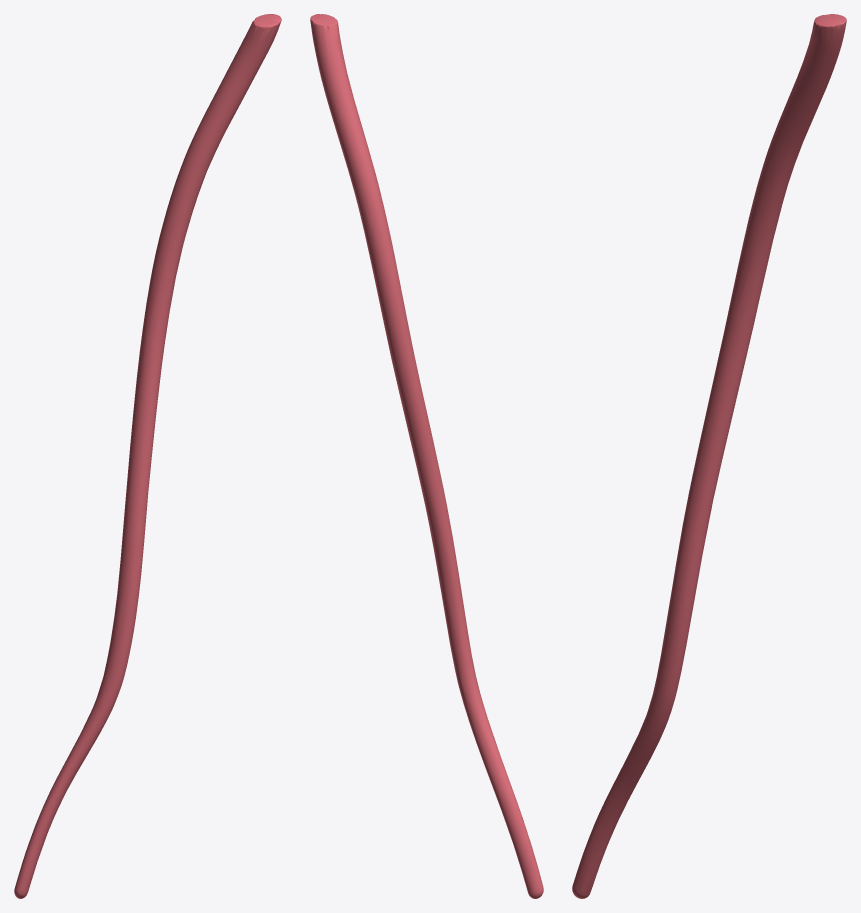
File: fma22935_fj2341.glb
The picture shows the model from 3 angles, left to right: view 1: azimuth 30°, elevation 25°; view 2: azimuth 150°, elevation 25°; view 3: azimuth 330°, elevation 25°; orthographic projection. The views are drawn at different scales.
Parts seen in each view (by area): view 1: FMA22935_FJ2341; view 2: FMA22935_FJ2341; view 3: FMA22935_FJ2341.
Boxes of the visible parts, bbox=[...] form: FMA22935_FJ2341: bbox=[14, 14, 281, 898]; FMA22935_FJ2341: bbox=[310, 14, 543, 898]; FMA22935_FJ2341: bbox=[572, 14, 846, 898].
Size of the model in its own units: 0.0682 by 0.2166 by 0.0145.
